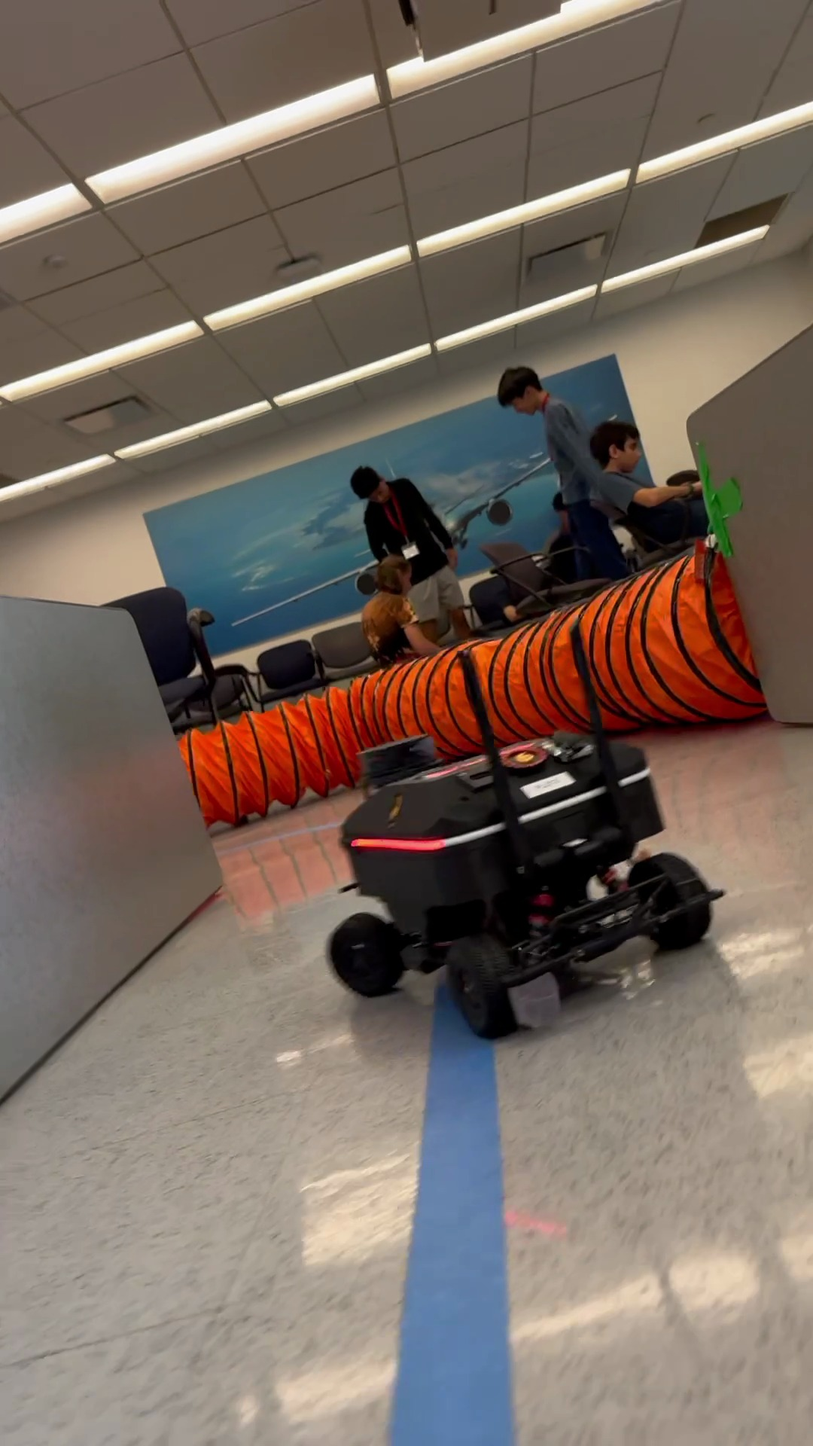racecar: (323, 624, 723, 1037)
